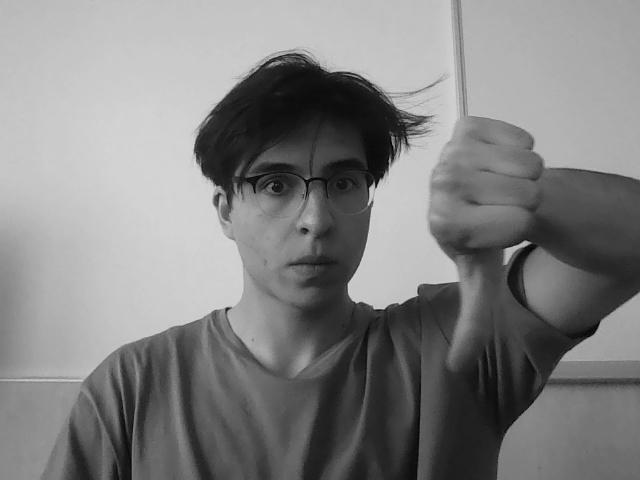bad: (410, 105, 542, 345)
